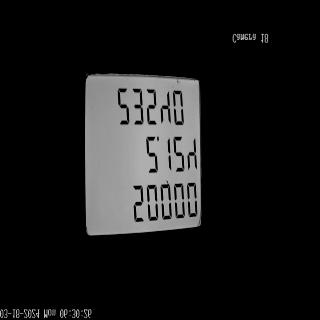screen: (81, 68, 208, 250)
